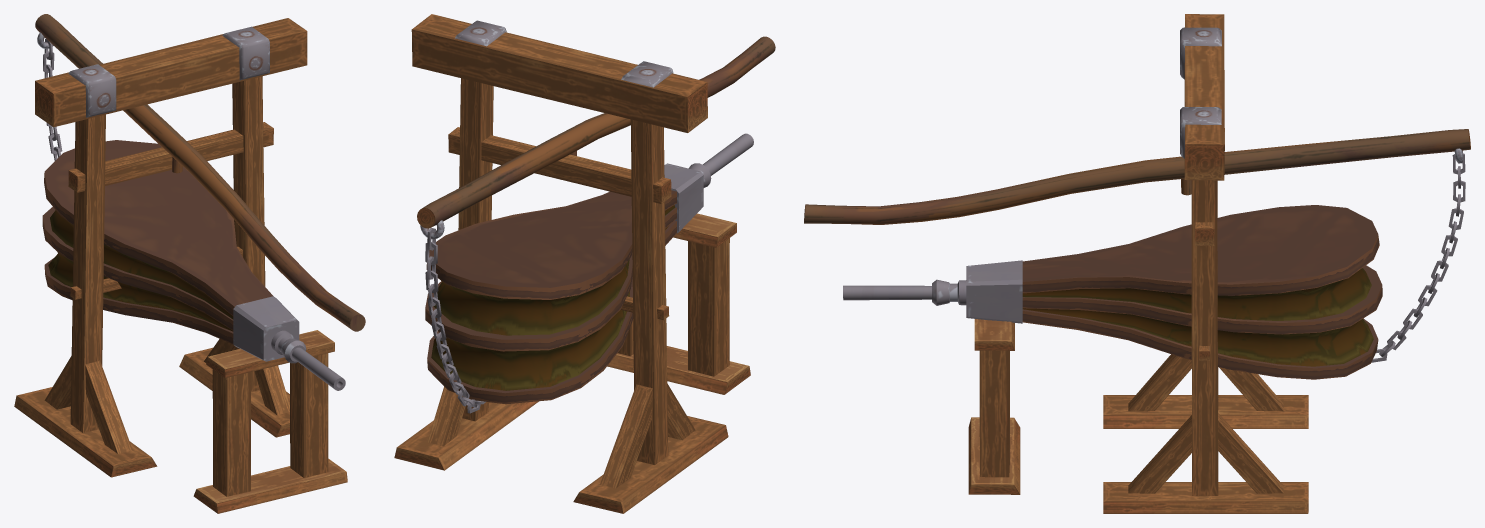
Rendered from Bellows.gltf.
3 views of the same model, side by side, from view 1: azimuth 30°, elevation 25°; view 2: azimuth 150°, elevation 25°; view 3: azimuth 270°, elevation 25° (orthographic). The views are drawn at different scales.
Parts seen in each view (by area): view 1: Bellows; view 2: Bellows; view 3: Bellows.
Boxes of the visible parts, x1,y1,x2,y2 form: Bellows: [14, 14, 365, 513]; Bellows: [394, 14, 775, 513]; Bellows: [804, 14, 1470, 513].
Size of the model in its own units: 0.8765 by 1.2 by 1.88.
3 materials, 3 textured.
